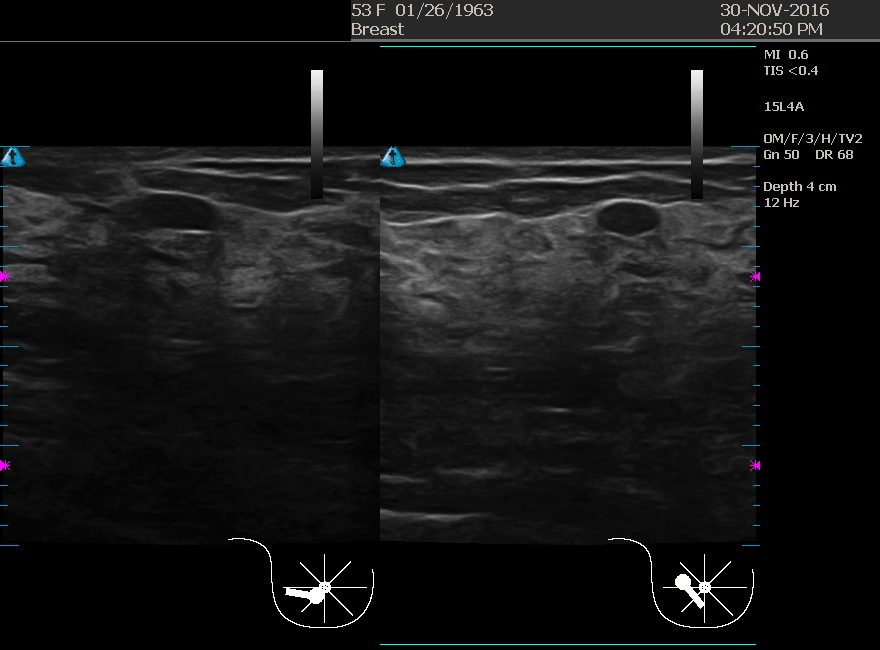BIRADS_2: (78, 148, 278, 348), (481, 191, 681, 391)
